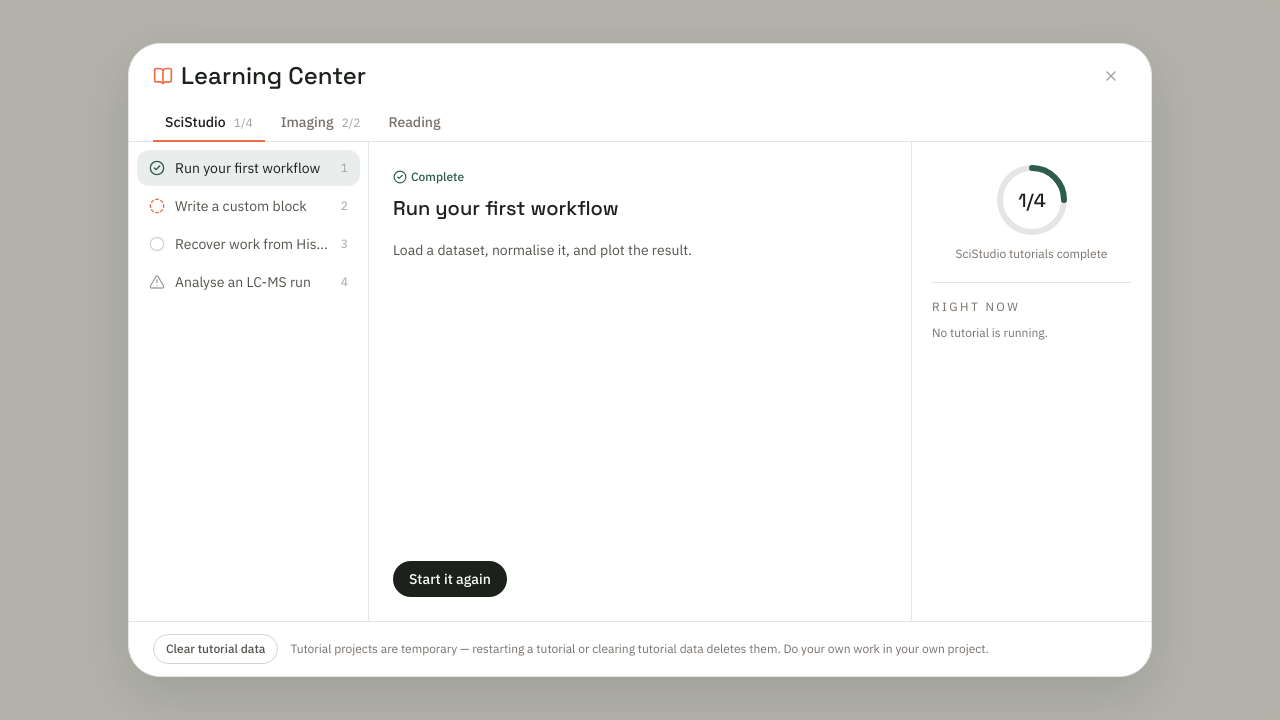
Scenario: Learning Center — the Reading tab › opens the documentation reader rather than a tutorial list
Step 1. Click the tab with test id "tutorial-tab-reading" → click(415, 123), box [376,104,453,142]
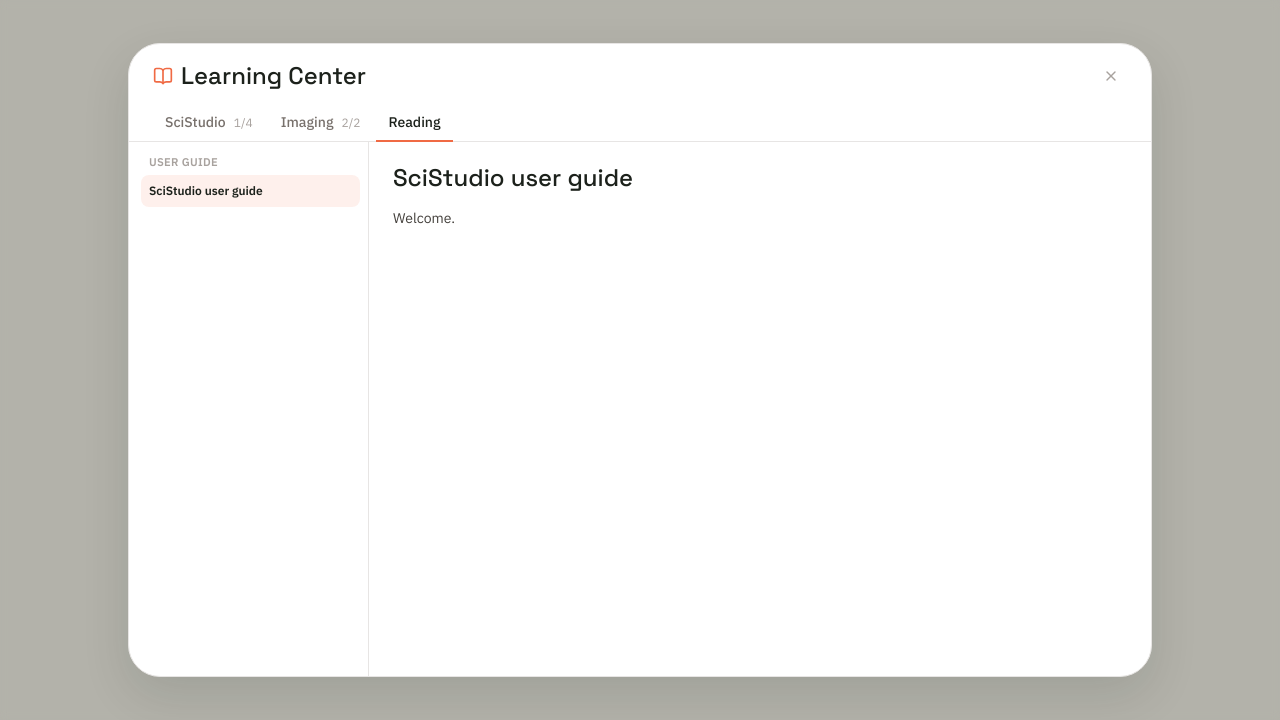
Expected: the element with test id "docs-browser" is shown, [129,142,633,676]
